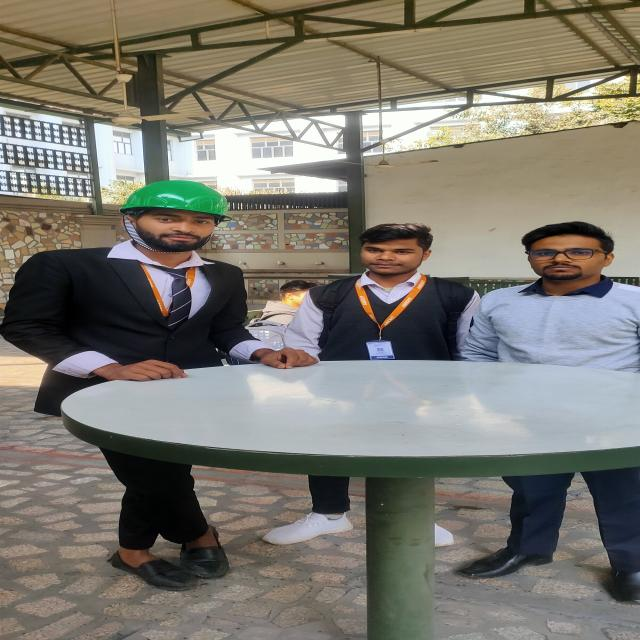no jacket: (0, 180, 313, 589)
unsafe: (290, 222, 477, 363), (473, 220, 640, 370)
